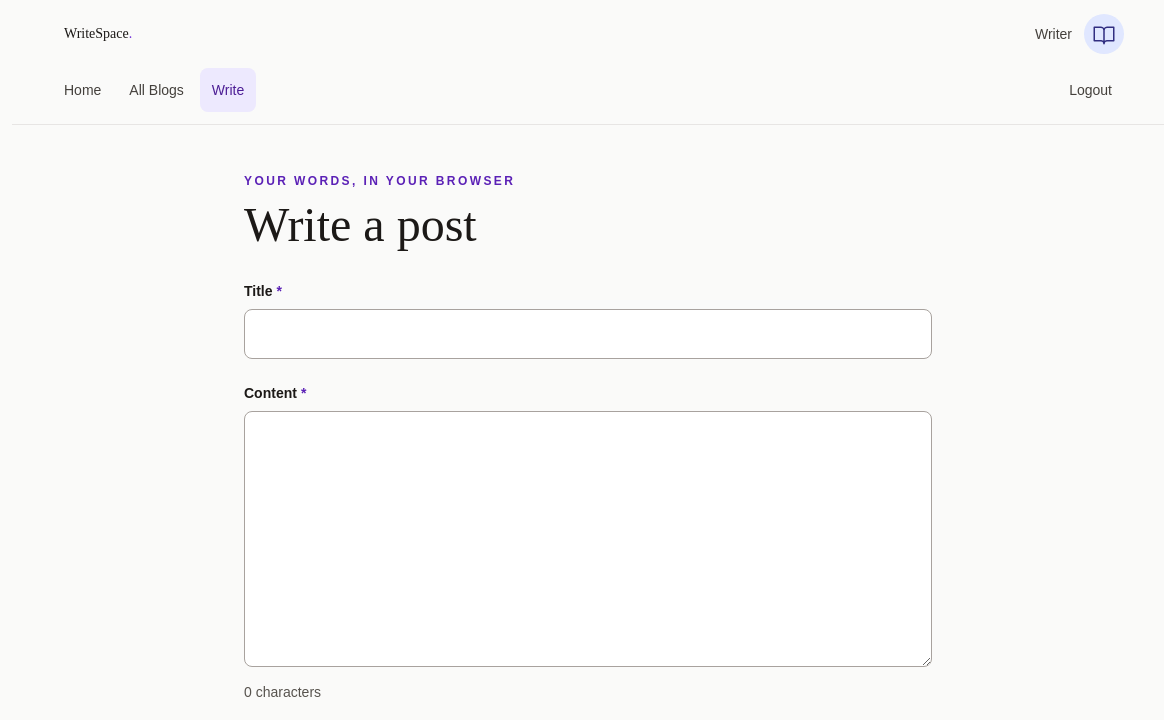
Test: entry protection and session handling › passes the current session into real write/read routes: {"userId":"u","username":"writer","displayName":"Writer","role":"user"}
Type "Routed title" into the field labelled "Title*". click: (588, 334)
box: left=244, top=309, right=932, bottom=359
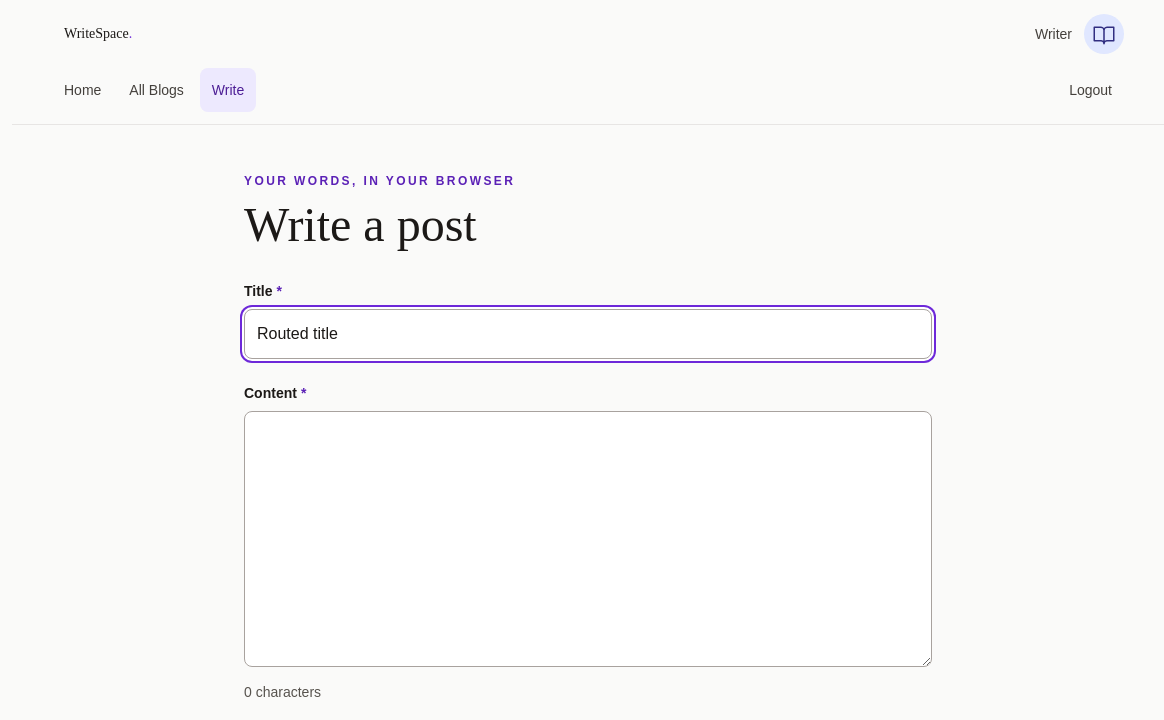
Type "Routed body" into the text box labelled "Content*". click: (588, 539)
box: left=244, top=411, right=932, bottom=667
(page scrolled)
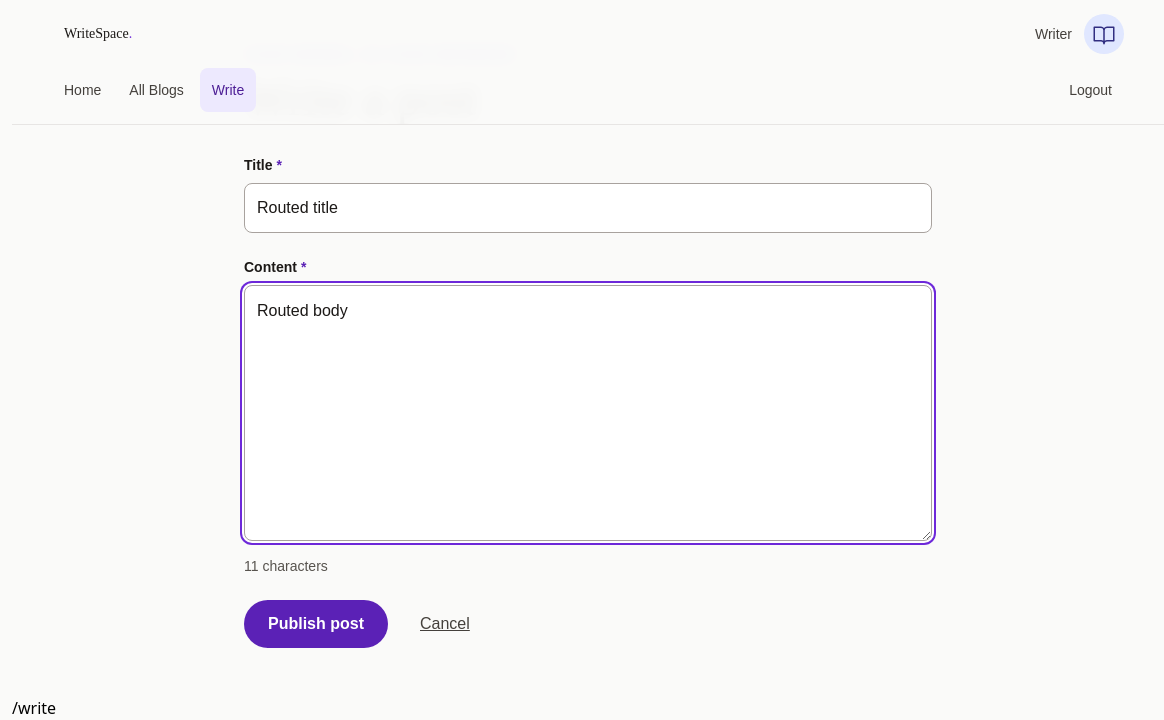
Click the button "Publish post". click: (316, 624)
box: left=244, top=600, right=388, bottom=648
(page scrolled)
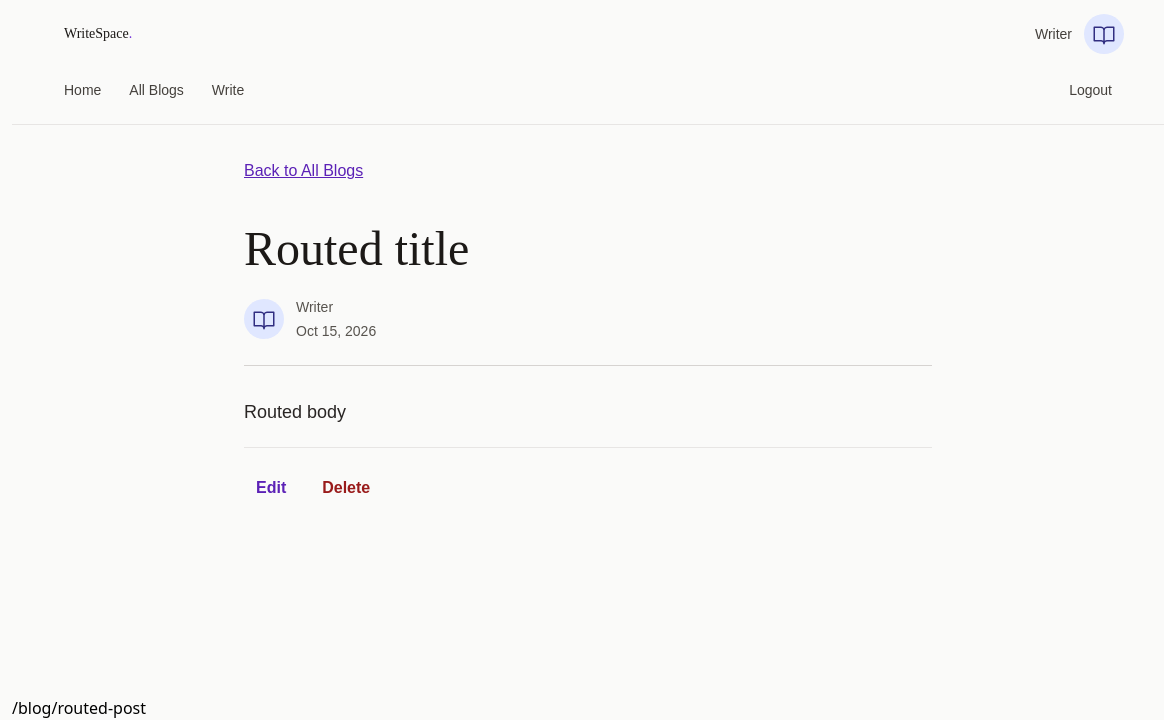
Result: the text with test id "location" reads "/blog/routed-post" at left=12, top=697, right=146, bottom=719
Result: the heading reads "Routed title" at left=244, top=222, right=469, bottom=275
